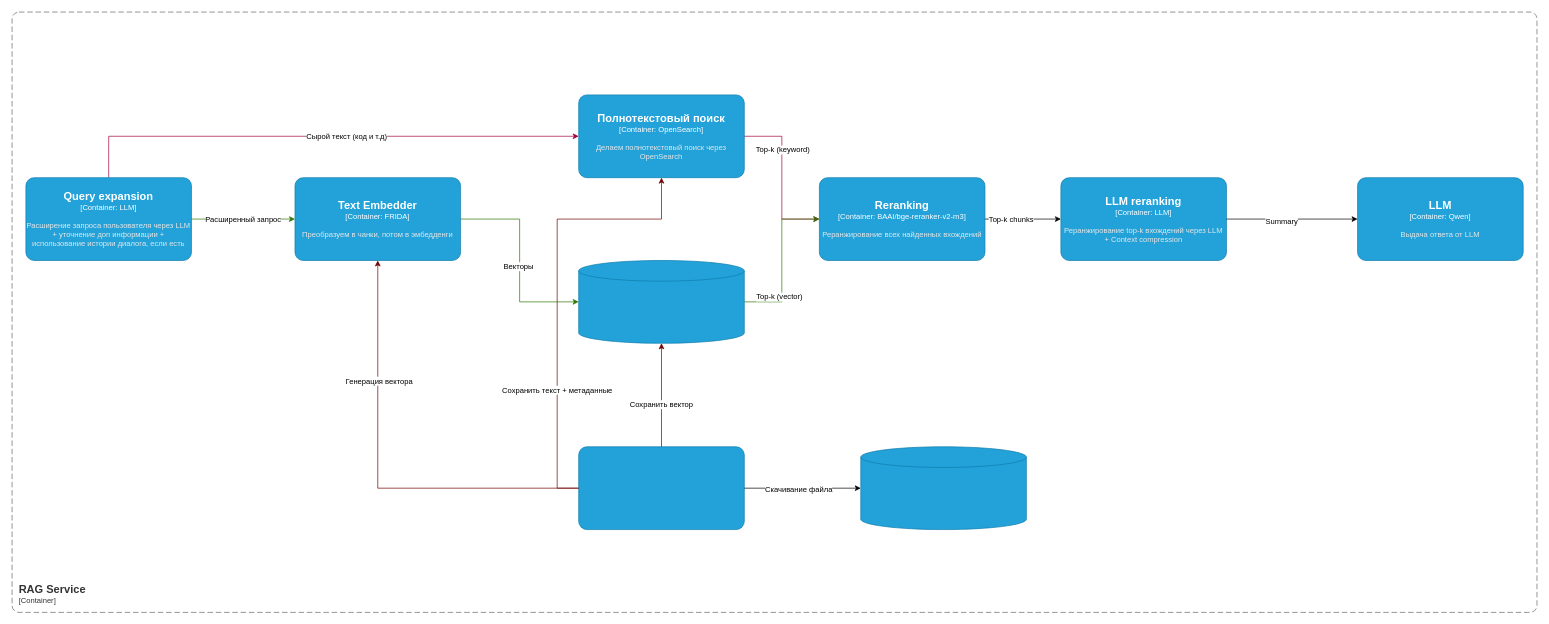
Image size: 1549x624. Some labels were removed from this diagram. Here are the shapes that lost their labels. From the top down, the box of each, then its label:
(578, 260, 744, 343): Векторная БД [Container: Milvus] Хранение всех эмбеддингов
(578, 446, 744, 530): Text indexer [Container: ?] Индексация всех документов
(860, 446, 1026, 530): Какая-то БД [Container: ] БД со всеми .md файлами
